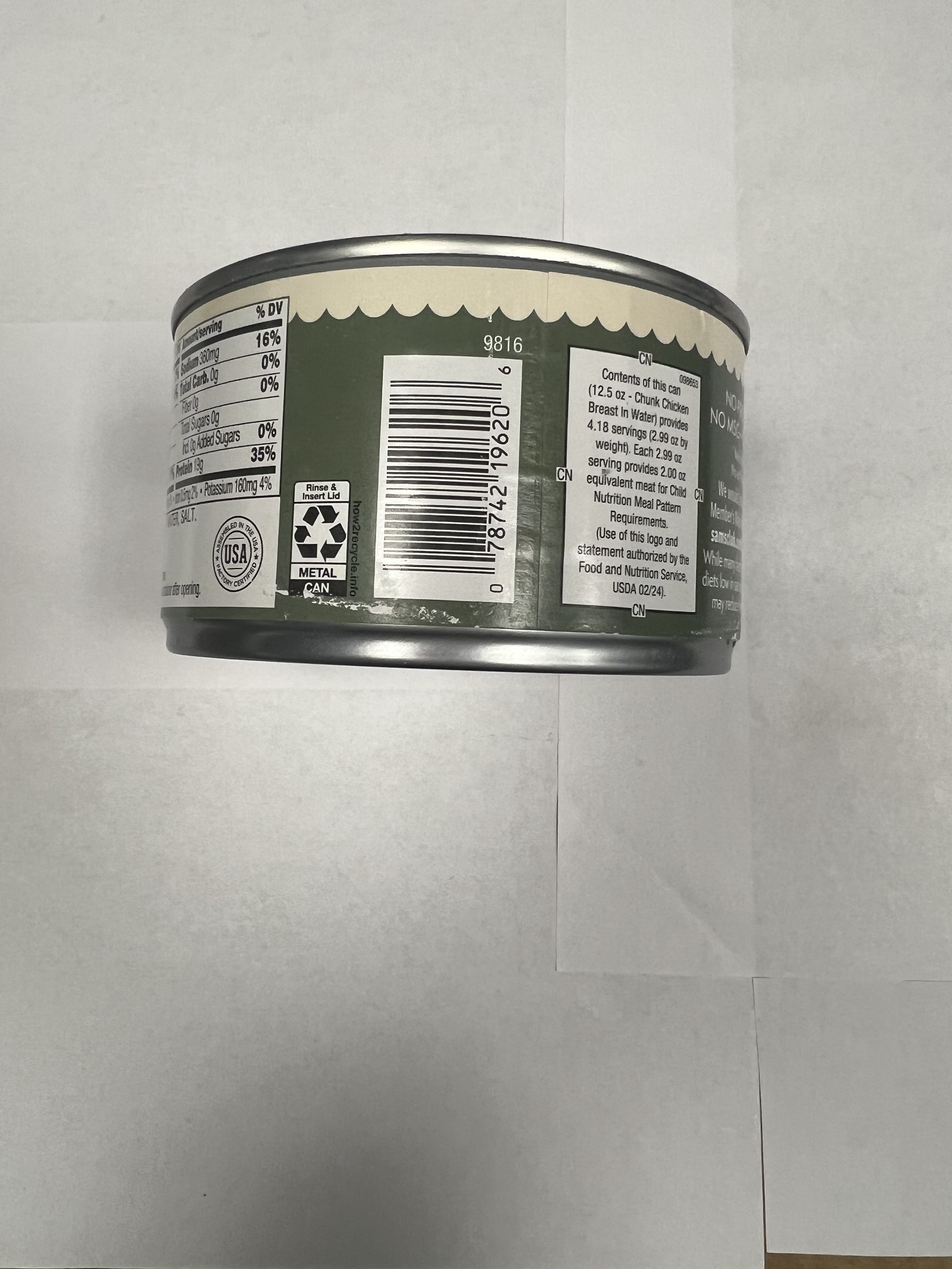packaged: (156, 227, 751, 684)
